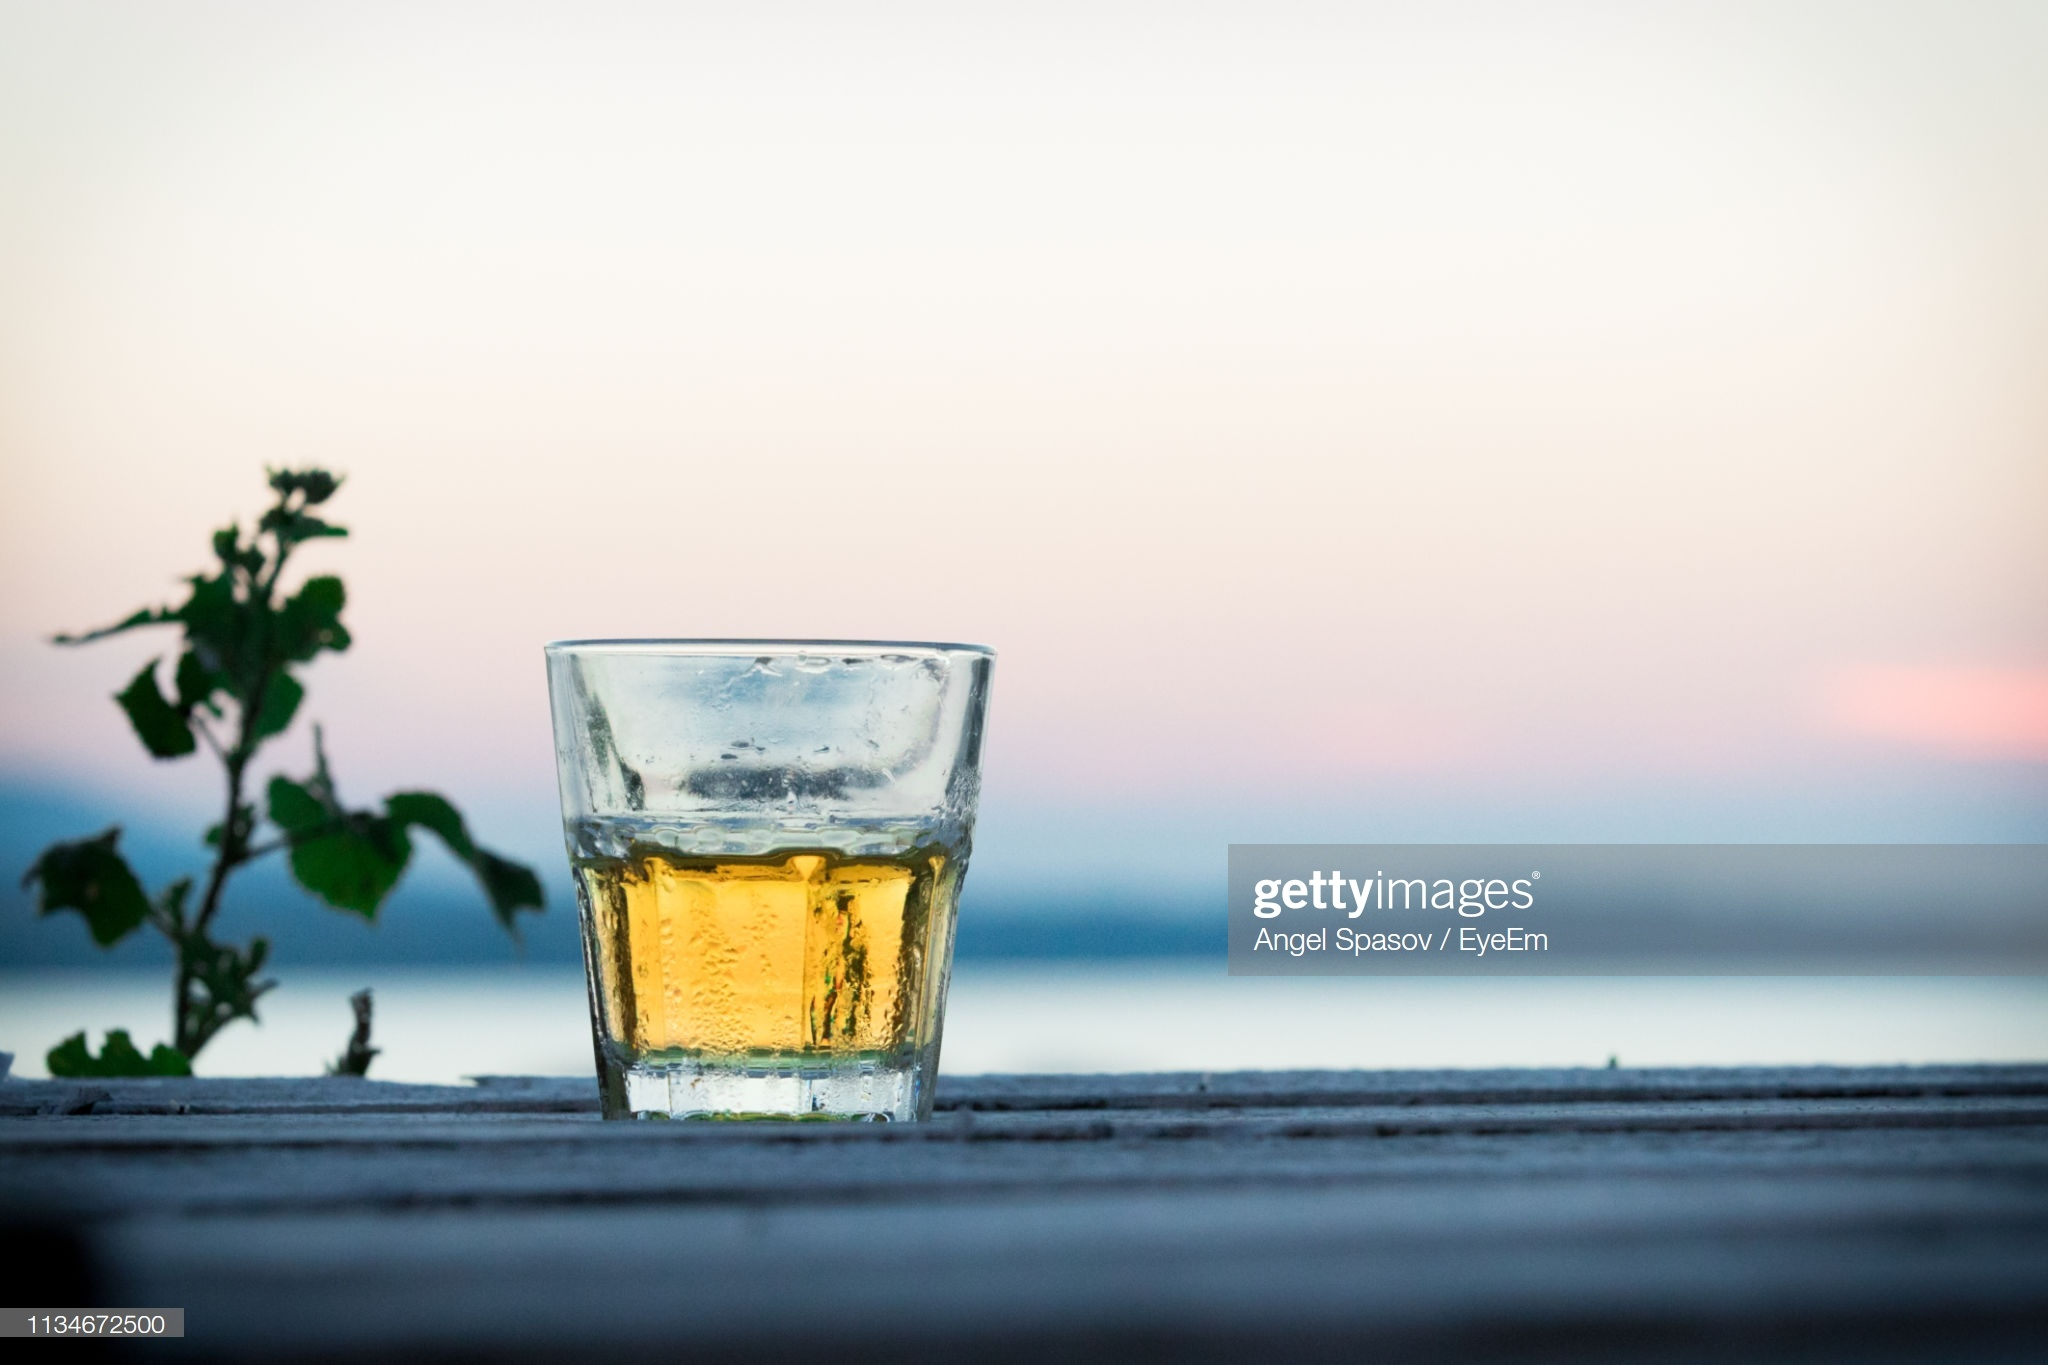glassBeer: (566, 638, 982, 1100)
